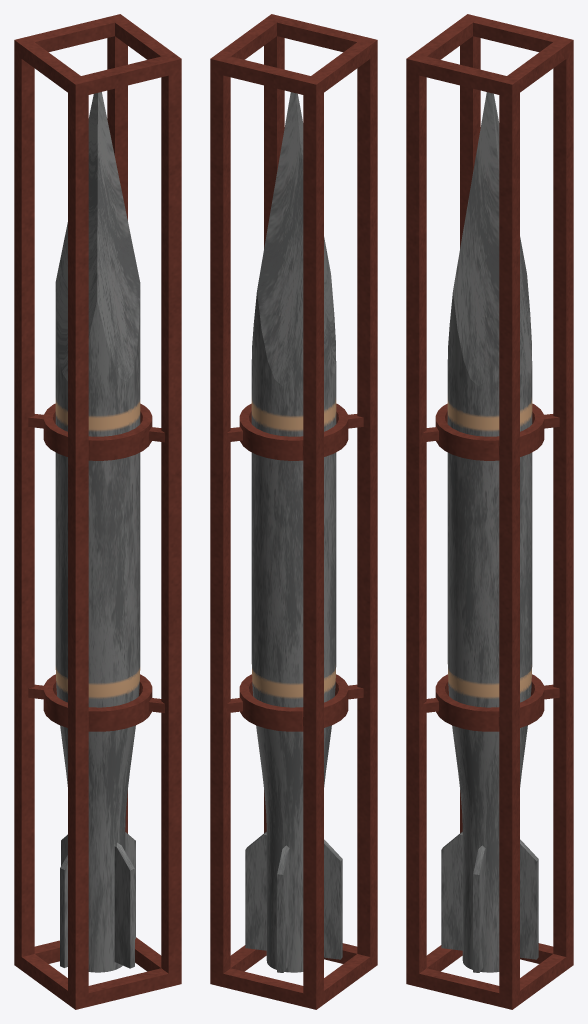
Rendered from RailgunAmmoCassette.glb.
3 renders of one model, left to right at view 1: azimuth 30°, elevation 25°; view 2: azimuth 150°, elevation 25°; view 3: azimuth 330°, elevation 25°, orthographic.
Parts seen in each view (by area): view 1: Slot_01_AmmoCassette_Case, Slot_01_AmmoCassette_Projectile, Slot_01_AmmoCassette; view 2: Slot_01_AmmoCassette_Case, Slot_01_AmmoCassette_Projectile, Slot_01_AmmoCassette; view 3: Slot_01_AmmoCassette_Case, Slot_01_AmmoCassette_Projectile, Slot_01_AmmoCassette.
Part boxes in pixels (left/top/right/bottom): Slot_01_AmmoCassette_Case: left=14, top=14, right=181, bottom=1009; Slot_01_AmmoCassette_Projectile: left=55, top=92, right=140, bottom=972; Slot_01_AmmoCassette: left=60, top=832, right=135, bottom=968; Slot_01_AmmoCassette_Case: left=210, top=14, right=377, bottom=1009; Slot_01_AmmoCassette_Projectile: left=251, top=92, right=336, bottom=972; Slot_01_AmmoCassette: left=245, top=832, right=342, bottom=972; Slot_01_AmmoCassette_Case: left=406, top=14, right=573, bottom=1009; Slot_01_AmmoCassette_Projectile: left=447, top=92, right=532, bottom=972; Slot_01_AmmoCassette: left=441, top=832, right=538, bottom=972.
Size of the model in its own units: 0.0656 by 0.5466 by 0.0656.
Materials: 2 (2 with a texture image).
